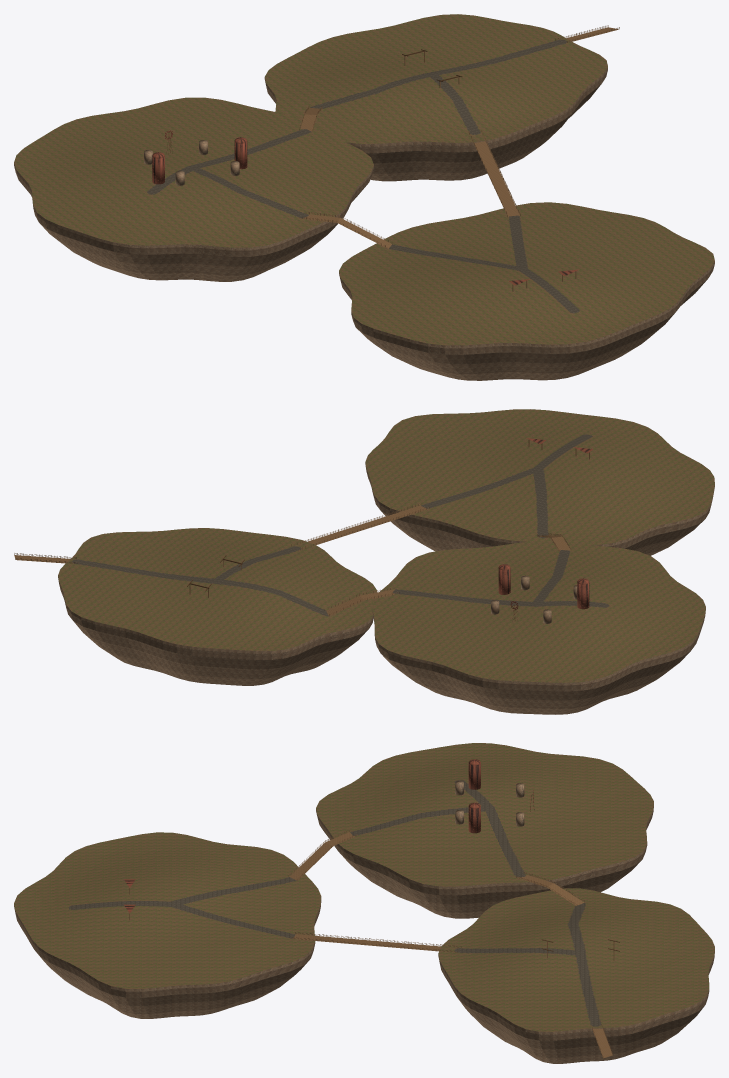
Rendered from rootwood-distant.glb.
3 views of the same model, one above another, from view 1: azimuth 30°, elevation 25°; view 2: azimuth 150°, elevation 25°; view 3: azimuth 270°, elevation 25° (orthographic). The views are drawn at different scales.
Visible parts, largest first — view 1: Bosque da Colheita rolling solid terrain, Rootwood connected earth trails; view 2: Bosque da Colheita rolling solid terrain, Rootwood connected earth trails; view 3: Bosque da Colheita rolling solid terrain, Rootwood connected earth trails.
Part boxes in pixels (bbox=[...]): Bosque da Colheita rolling solid terrain: bbox=[14, 14, 714, 380]; Rootwood connected earth trails: bbox=[147, 39, 579, 313]; Bosque da Colheita rolling solid terrain: bbox=[14, 409, 714, 714]; Rootwood connected earth trails: bbox=[72, 434, 609, 616]; Bosque da Colheita rolling solid terrain: bbox=[14, 743, 714, 1063]; Rootwood connected earth trails: bbox=[69, 780, 601, 1026].
Bounding box in the file's own units: 468 × 80.13 × 463.
6 materials, 6 textured.
